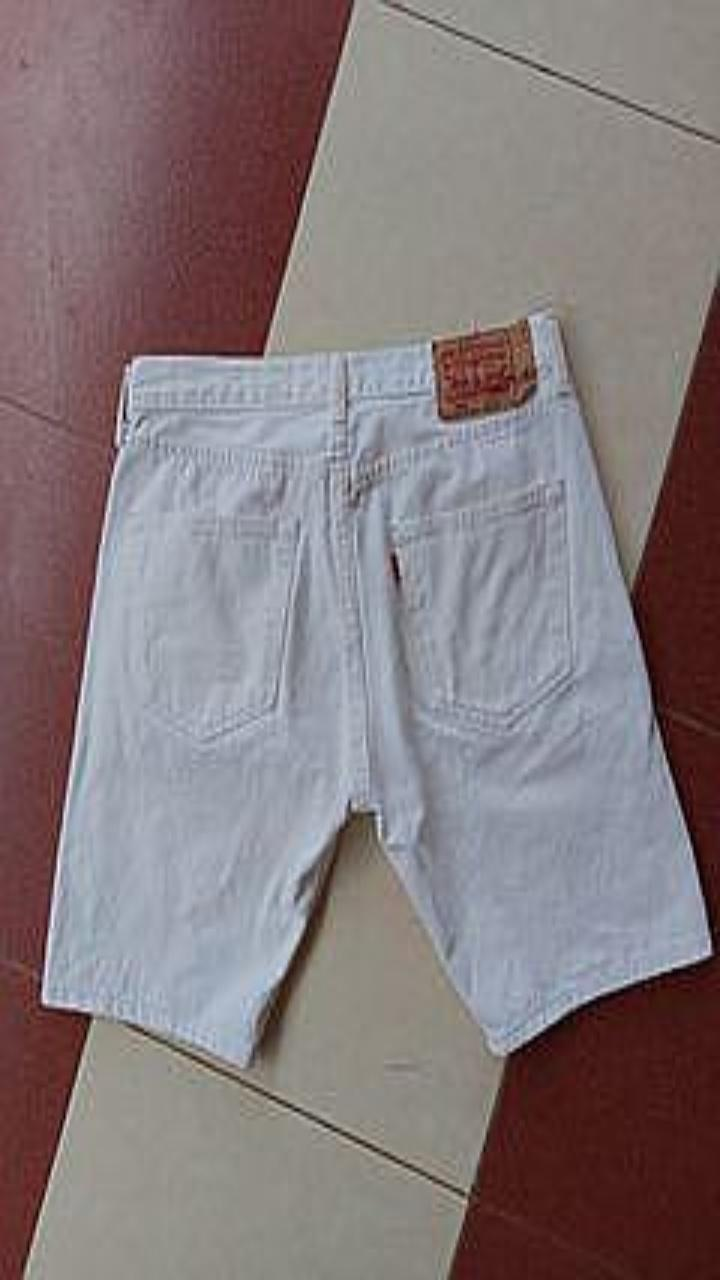Shorts: (41, 311, 710, 1064)
